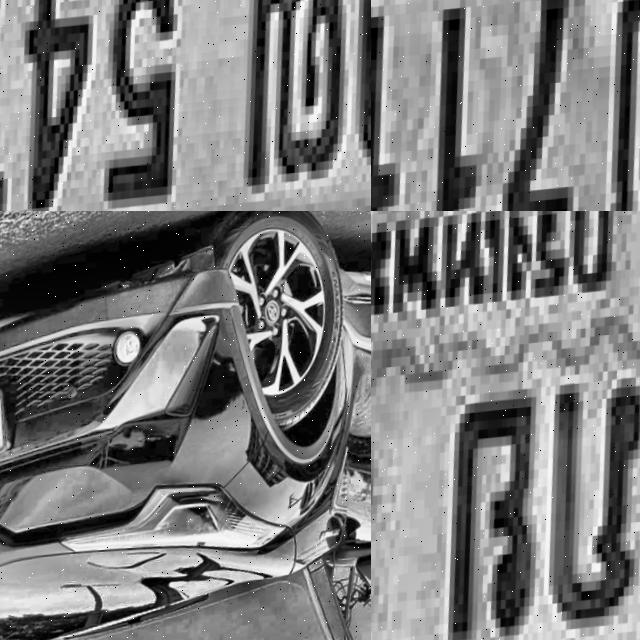license-plate: (371, 211, 640, 640), (0, 0, 371, 211), (371, 0, 640, 211), (0, 381, 20, 480)
